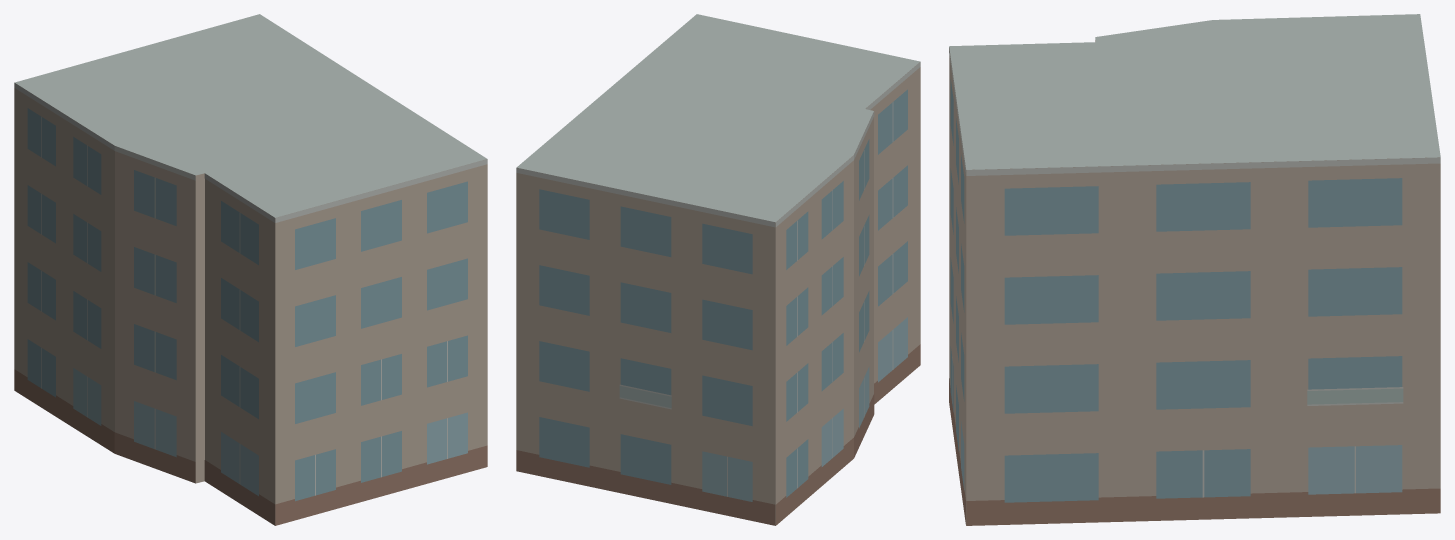
The model's file is survey-upis-32735006.glb.
3 renders of one model, left to right at view 1: azimuth 30°, elevation 25°; view 2: azimuth 150°, elevation 25°; view 3: azimuth 270°, elevation 25°, orthographic. The views are drawn at different scales.
Parts seen in each view (by area): view 1: survey-upis-32735006.tmp; view 2: survey-upis-32735006.tmp; view 3: survey-upis-32735006.tmp.
Part boxes in pixels (<box>): survey-upis-32735006.tmp: <box>14,14,487,525</box>; survey-upis-32735006.tmp: <box>516,14,920,525</box>; survey-upis-32735006.tmp: <box>949,14,1440,525</box>.
Size of the model in its own units: 13.35 by 14.2 by 17.79.
